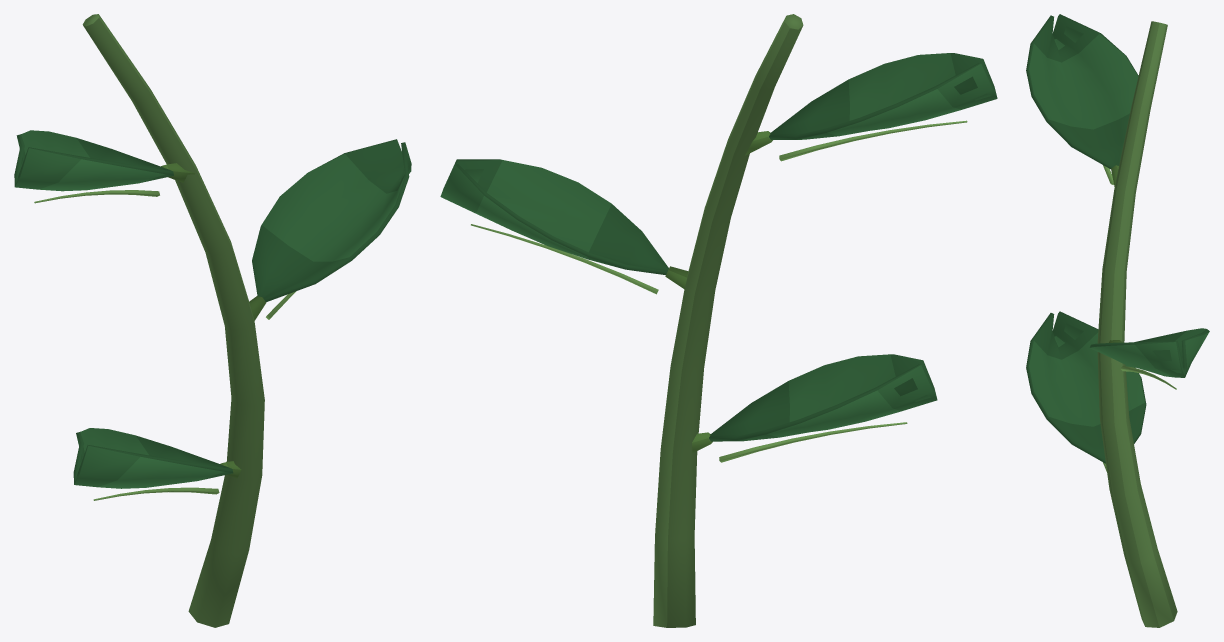
File: garden-geranium-bloom-stem-0.glb
3 renders of one model, left to right at view 1: azimuth 30°, elevation 25°; view 2: azimuth 150°, elevation 25°; view 3: azimuth 270°, elevation 25°, orthographic. The views are drawn at different scales.
Visible parts, largest first — view 1: geranium-bloom-stem-0; view 2: geranium-bloom-stem-0; view 3: geranium-bloom-stem-0.
Boxes of the visible parts, x1,y1,x2,y2 form: geranium-bloom-stem-0: (14,14,411,627); geranium-bloom-stem-0: (440,14,997,627); geranium-bloom-stem-0: (1026,14,1209,627).
Bounding box in the file's own units: 0.1757 × 0.2248 × 0.0678.
